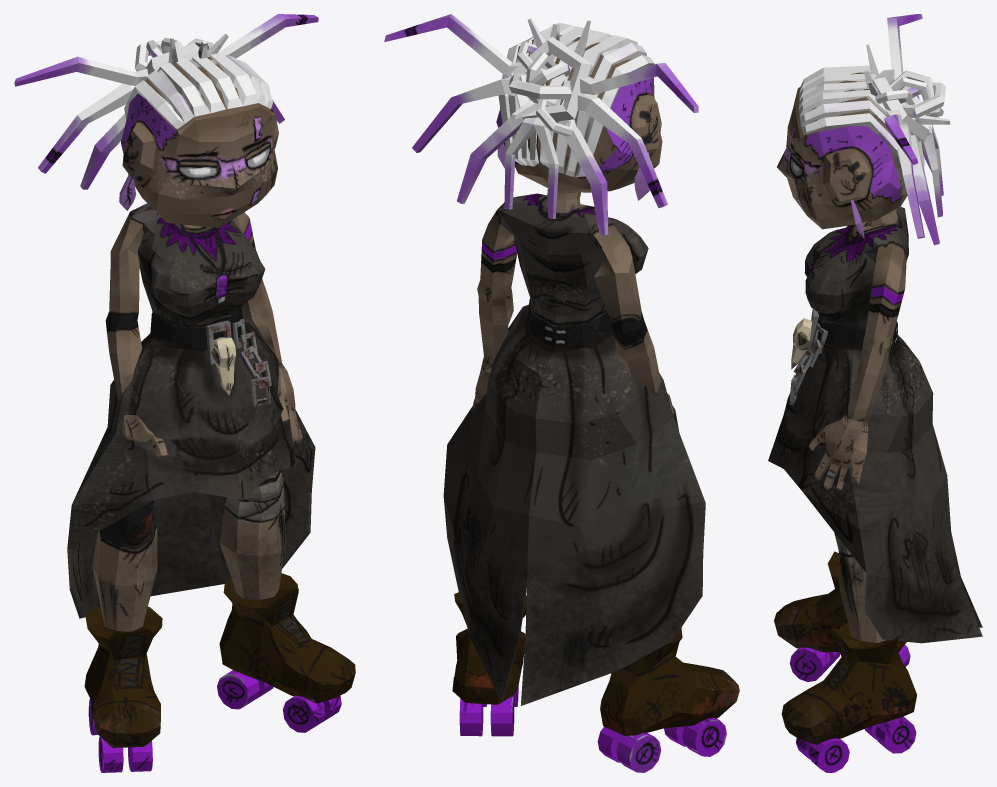
Rendered from bruja_000055.obj.
3 renders of one model, left to right at view 1: azimuth 30°, elevation 25°; view 2: azimuth 150°, elevation 25°; view 3: azimuth 270°, elevation 25°, orthographic. The views are drawn at different scales.
Visible parts, largest first — view 1: Bruja_Plane.001; view 2: Bruja_Plane.001; view 3: Bruja_Plane.001.
Boxes of the visible parts, <box> form: Bruja_Plane.001: <box>14,14,355,772</box>; Bruja_Plane.001: <box>384,14,739,772</box>; Bruja_Plane.001: <box>768,14,982,772</box>.
Size of the model in its own units: 7.47 by 16.58 by 4.85.
